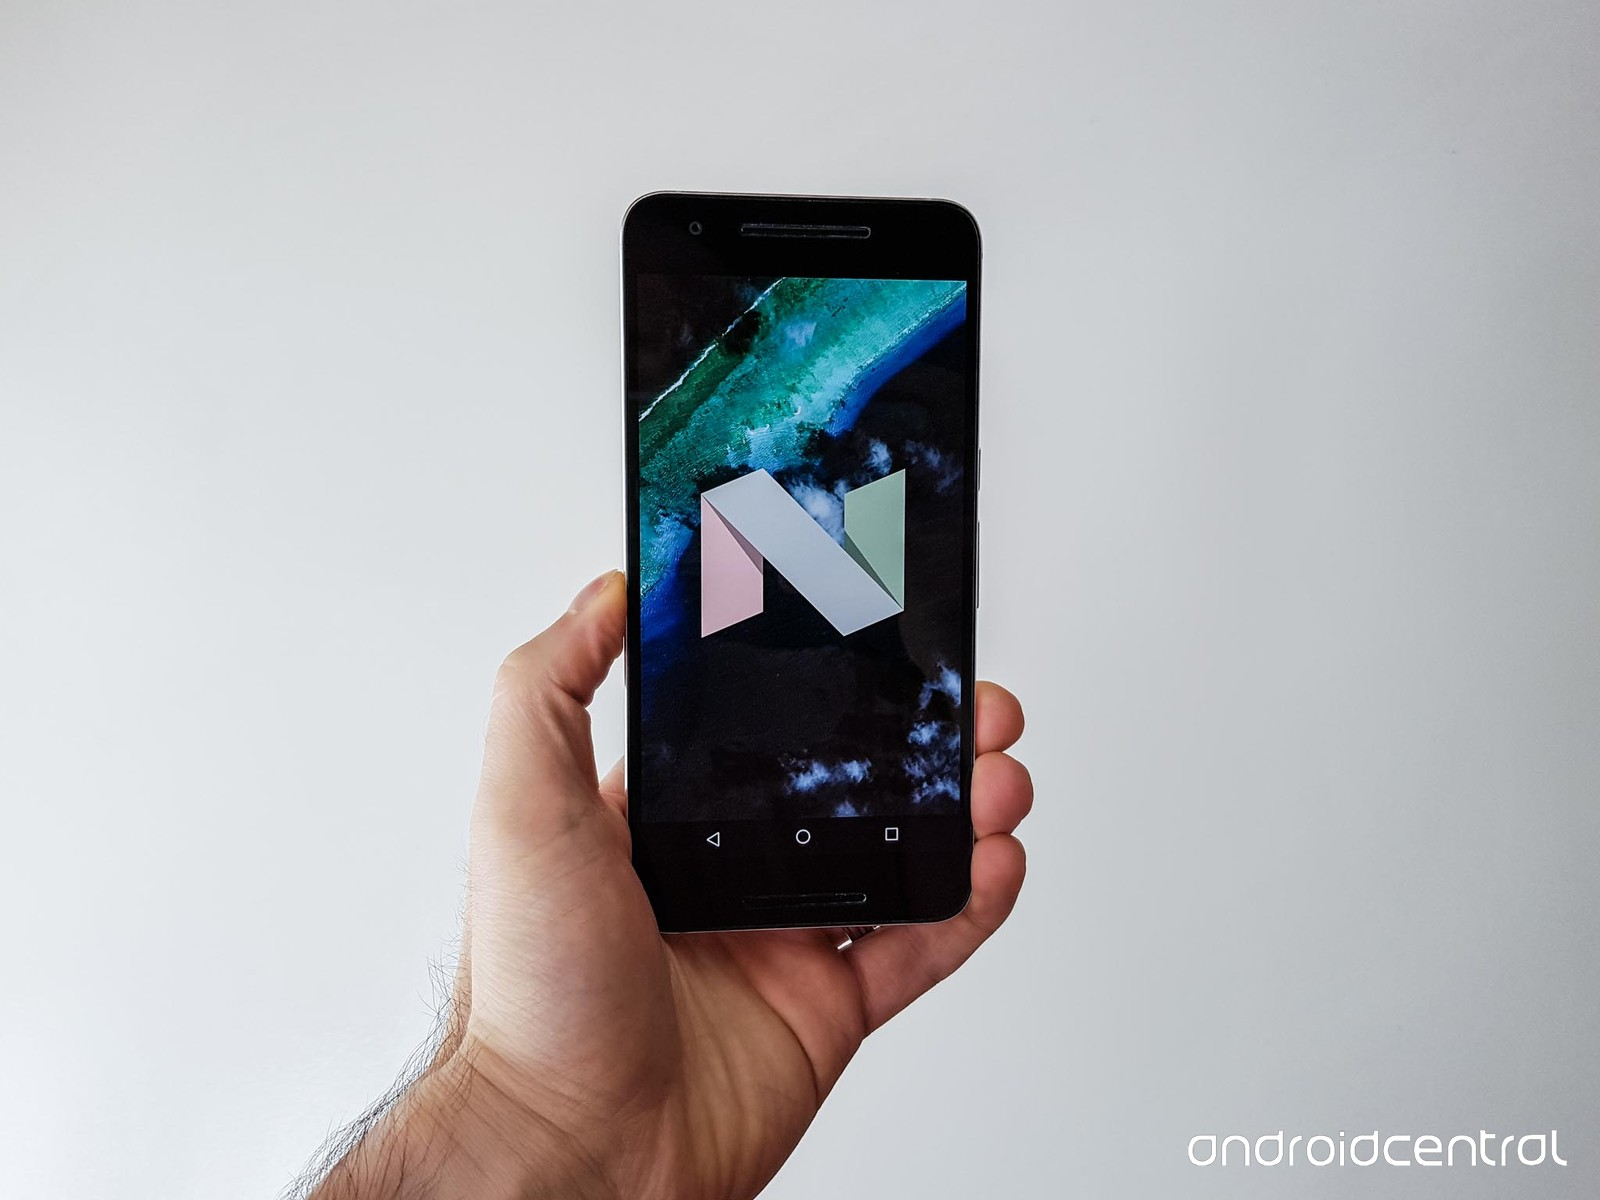smartphone: (620, 189, 984, 937)
